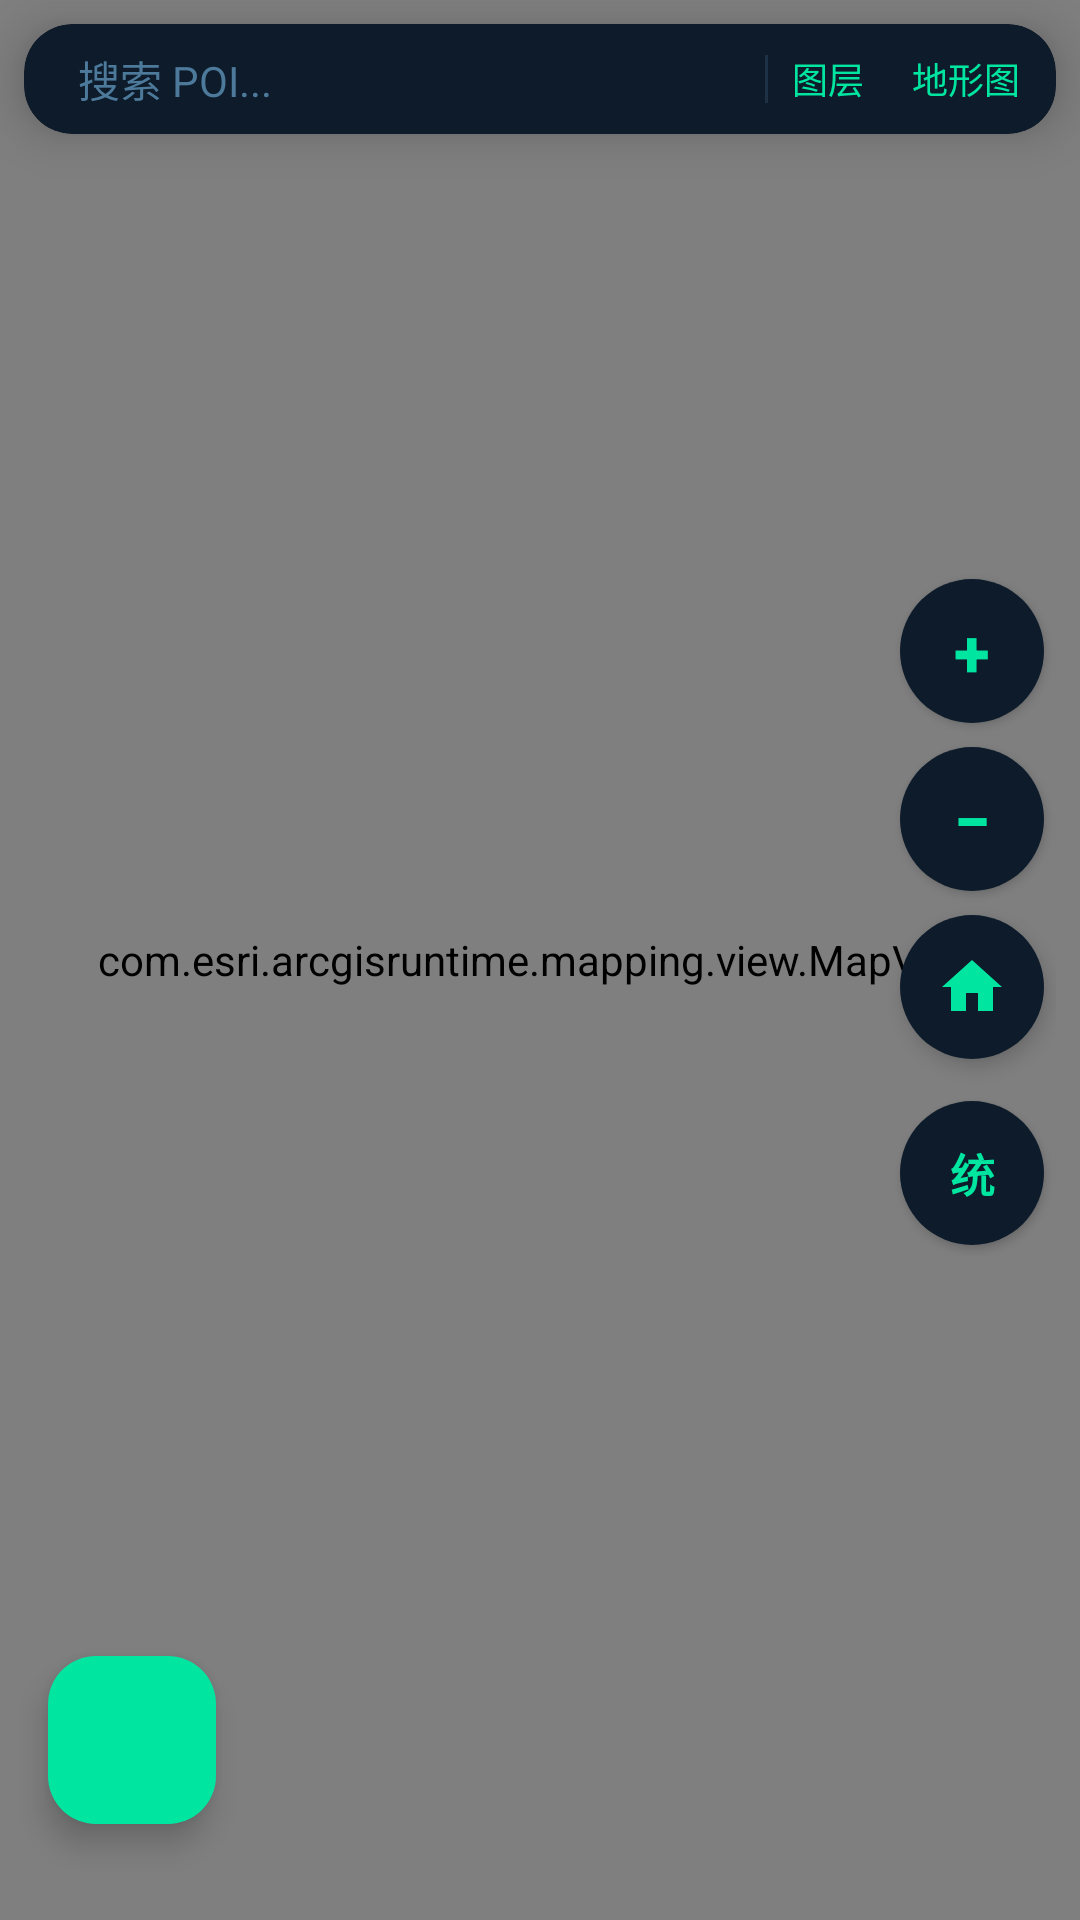

Icons on this 1080px x 1920px Android screen, each with its box as (x1, y1, x2, y2):
重置视图: (900, 915, 1044, 1059)
